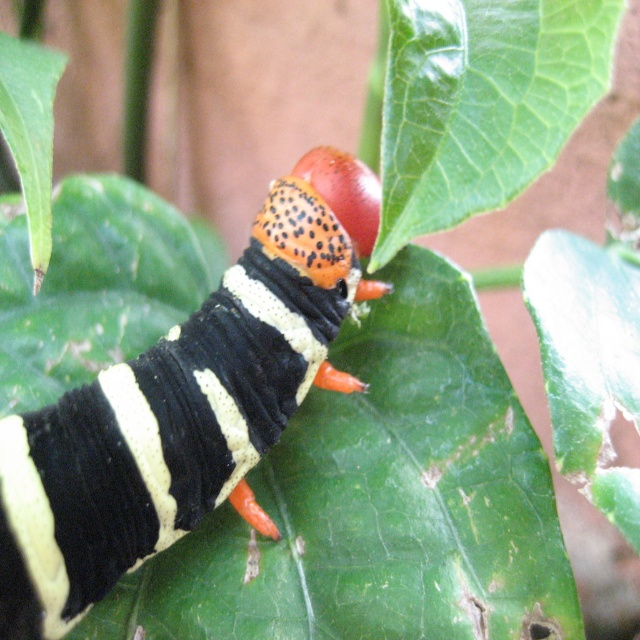Caterpillar: (0, 145, 394, 639)
